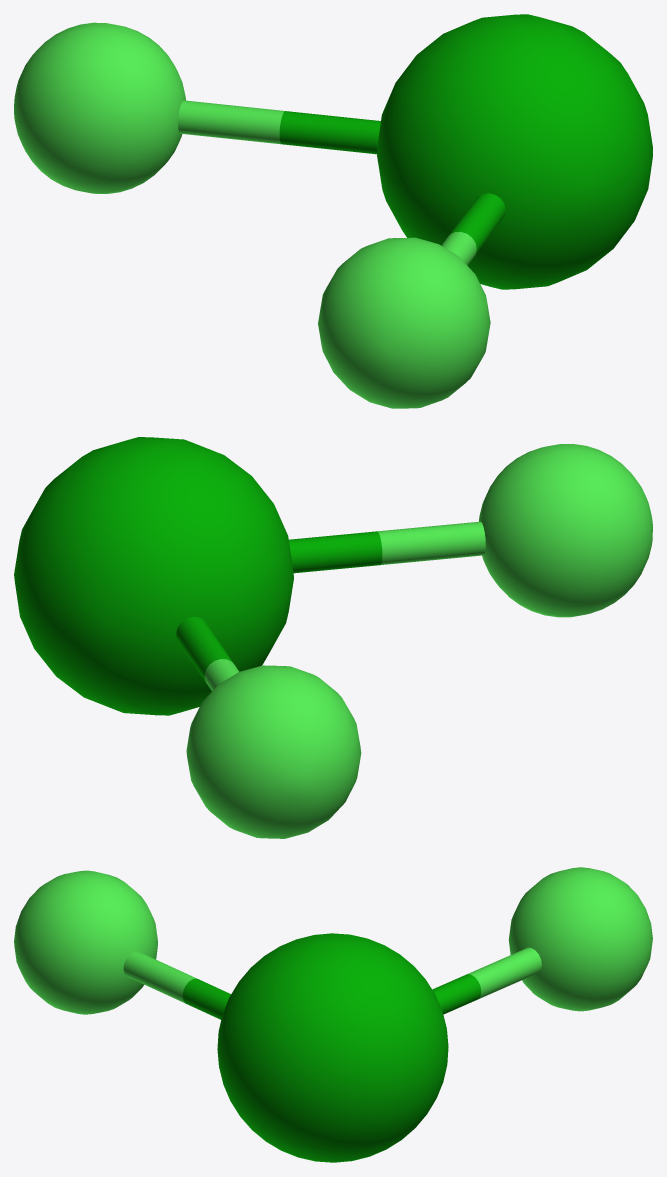
File: BeCl2.fbx
3 renders of one model, top to bottom at view 1: azimuth 30°, elevation 25°; view 2: azimuth 150°, elevation 25°; view 3: azimuth 270°, elevation 25°, orthographic. The views are drawn at different scales.
Parts seen in each view (by area): view 1: BeCl2; view 2: BeCl2; view 3: BeCl2.
Part boxes in pixels (left/top/right/bottom): BeCl2: left=14, top=14, right=652, bottom=408; BeCl2: left=14, top=437, right=652, bottom=838; BeCl2: left=14, top=867, right=652, bottom=1162.
Size of the model in its own units: 5.14 by 2.67 by 7.39.
